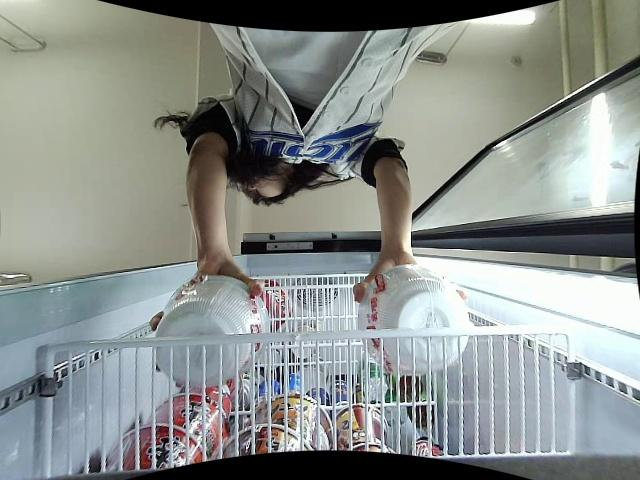00_hand: (150, 261, 265, 332), (352, 251, 468, 308)
09_yukGaeJang: (358, 265, 470, 377), (155, 275, 271, 383)
